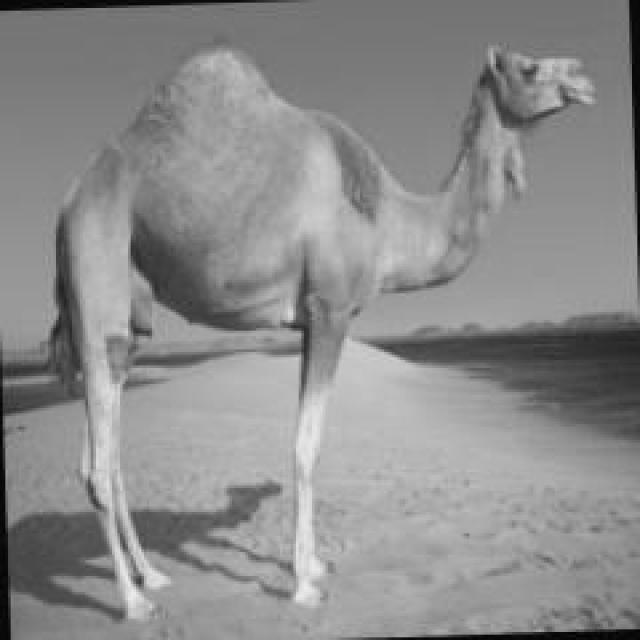Camel: (42, 35, 594, 621)
